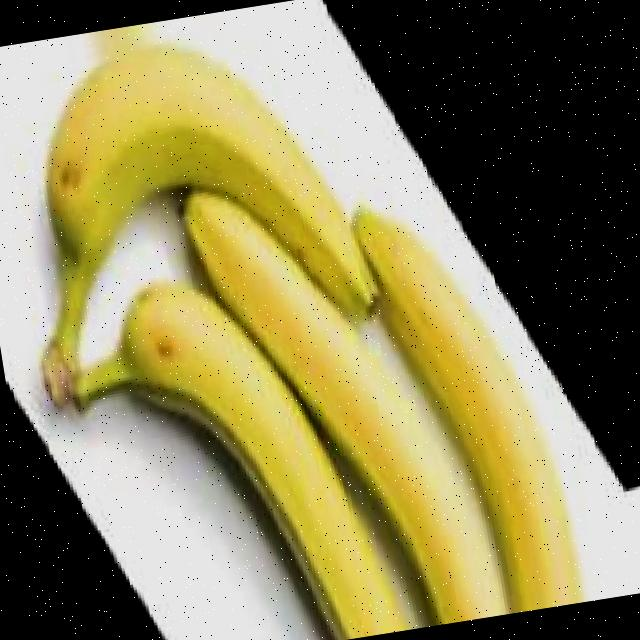banana: (0, 10, 371, 418)
